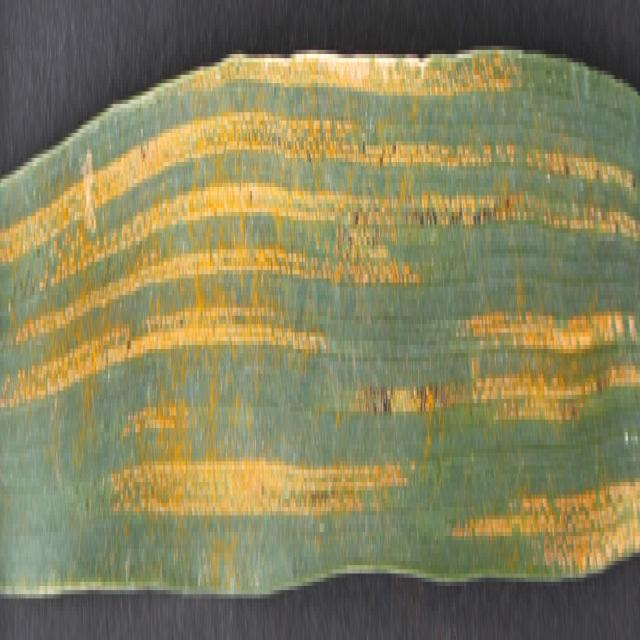leaf rust: (0, 33, 640, 573)
